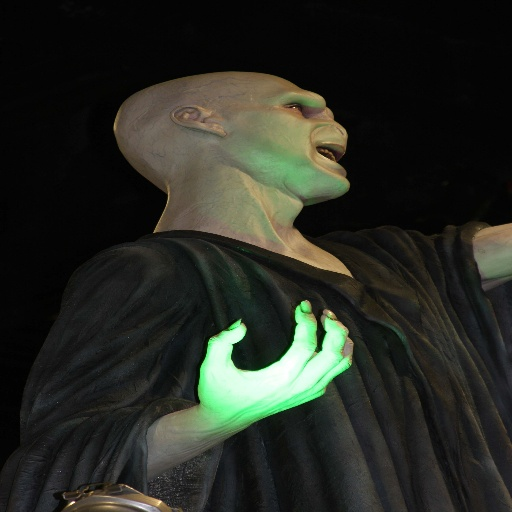hand: (149, 302, 361, 454)
